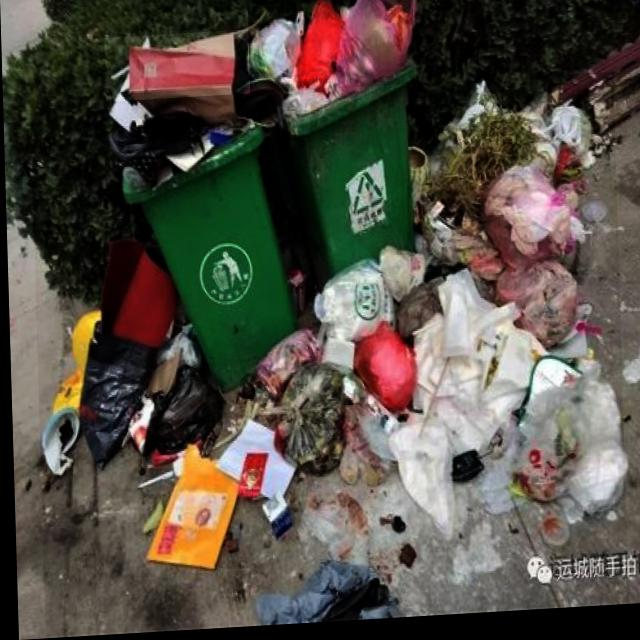garbage: (29, 79, 625, 637)
overflow: (105, 31, 295, 396), (247, 0, 419, 290)
